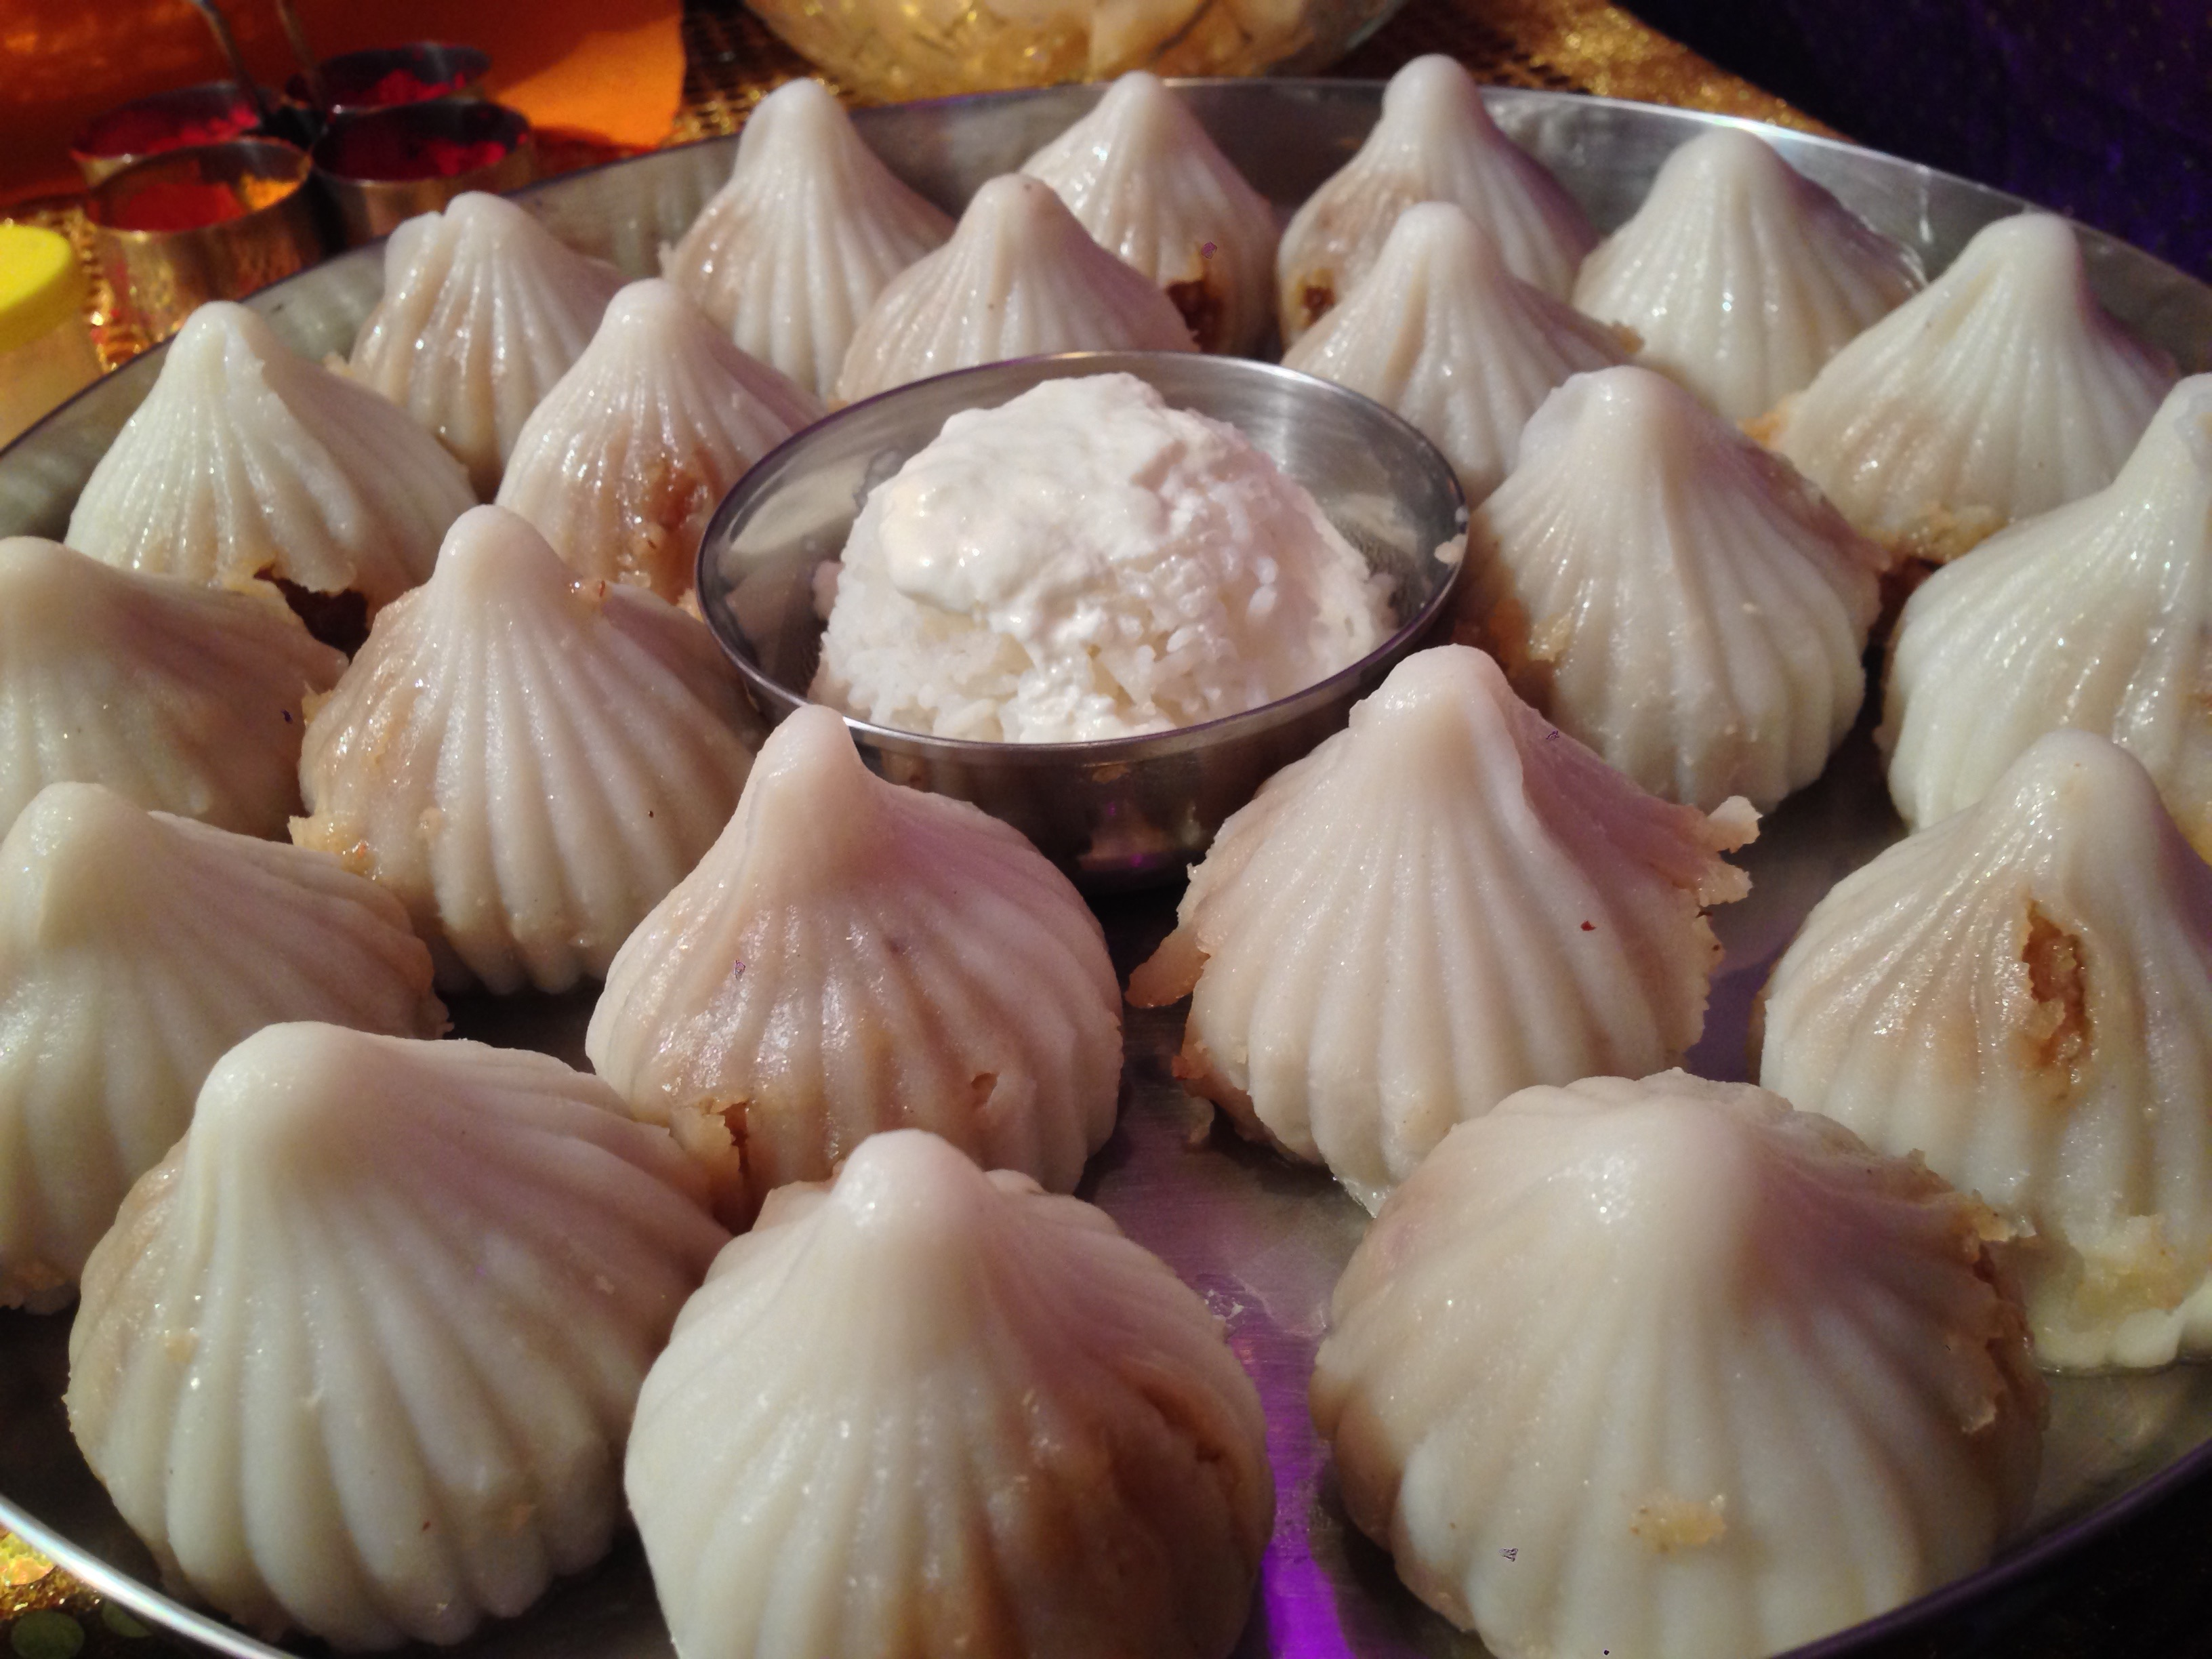modak: (1291, 1018, 2120, 1624), (543, 1122, 1360, 1659), (111, 1018, 742, 1554), (1240, 645, 1773, 1147), (2, 777, 439, 1297), (1782, 772, 2212, 1277), (651, 708, 1160, 1114), (298, 521, 747, 948), (1482, 366, 1879, 803)
